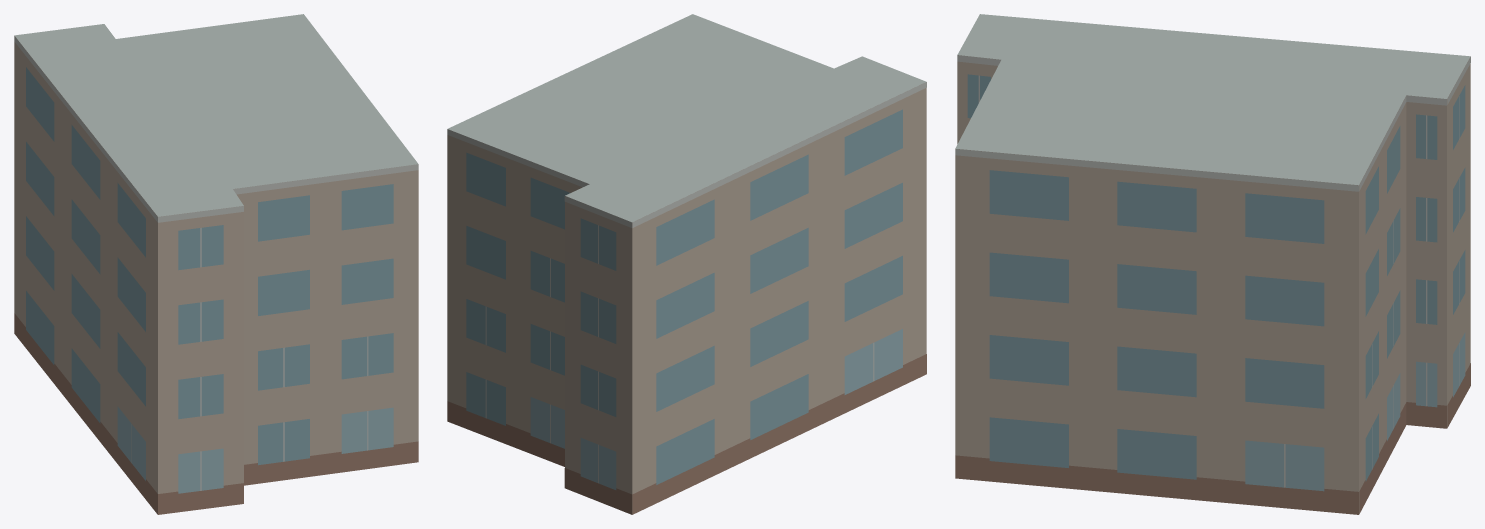
File: survey-upis-32830850.glb
The picture shows the model from 3 angles, left to right: view 1: azimuth 30°, elevation 25°; view 2: azimuth 150°, elevation 25°; view 3: azimuth 270°, elevation 25°; orthographic projection. The views are drawn at different scales.
Visible parts, largest first — view 1: survey-upis-32830850.tmp; view 2: survey-upis-32830850.tmp; view 3: survey-upis-32830850.tmp.
Part boxes in pixels (box(x1,y1,x2,y2)): survey-upis-32830850.tmp: box(14, 14, 418, 514); survey-upis-32830850.tmp: box(447, 14, 926, 514); survey-upis-32830850.tmp: box(955, 14, 1470, 514).
Size of the model in its own units: 13.6 by 12.2 by 17.3.
